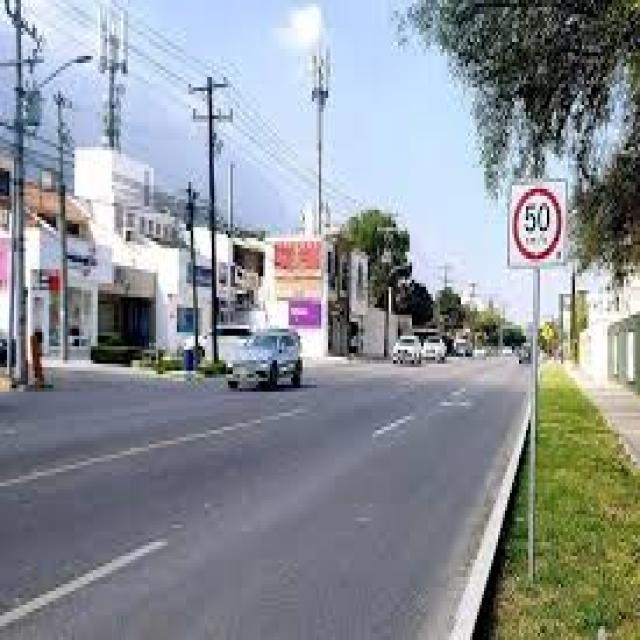Speed limit 50: (506, 176, 569, 270)
